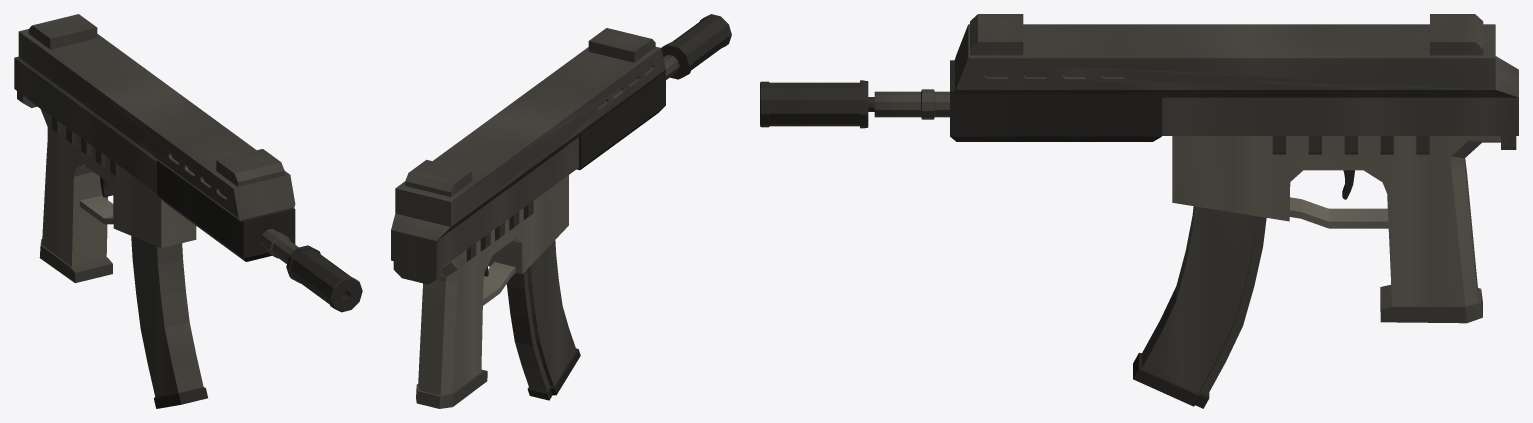
The picture shows the model from 3 angles, left to right: view 1: azimuth 30°, elevation 25°; view 2: azimuth 150°, elevation 25°; view 3: azimuth 270°, elevation 25°; orthographic projection. The views are drawn at different scales.
Parts seen in each view (by area): view 1: viper45; view 2: viper45; view 3: viper45.
Boxes of the visible parts, <box> form: viper45: <box>14,14,362,408</box>; viper45: <box>391,14,731,408</box>; viper45: <box>760,14,1518,408</box>.
Bounding box in the file's own units: 0.0636 × 0.3272 × 0.6.
Materials: 1 (1 with a texture image).
